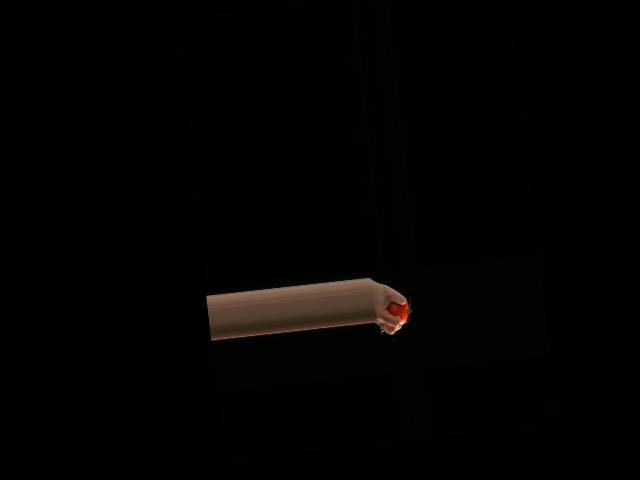tomato: (386, 299, 410, 325)
